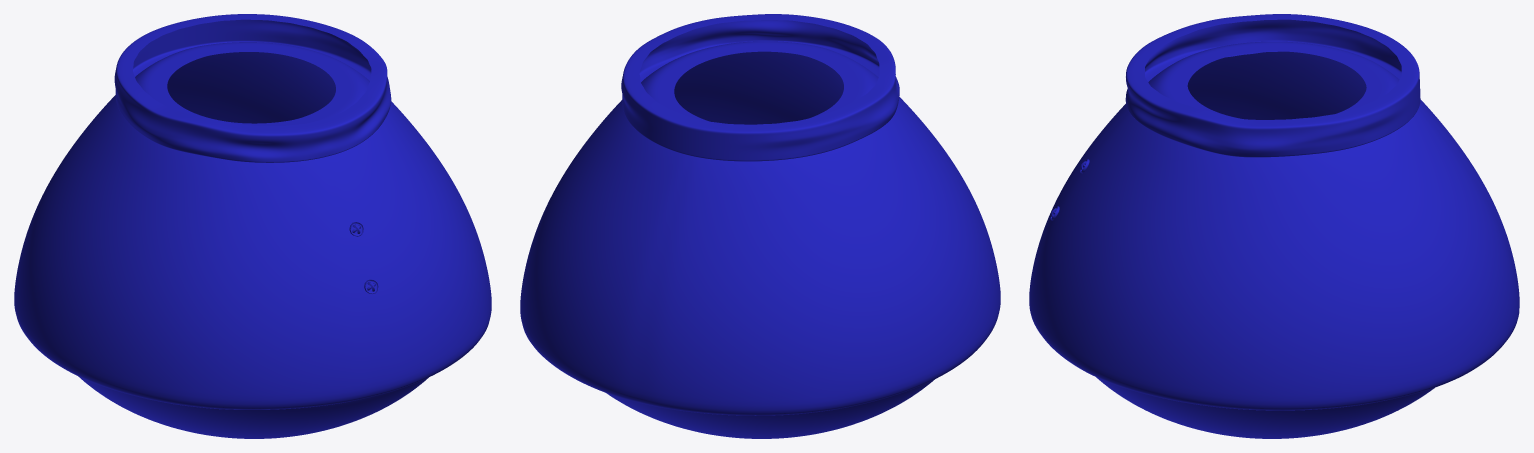
The model's file is SM_ FE_Char_Dog_Body.fbx.
The picture shows the model from 3 angles, left to right: view 1: azimuth 30°, elevation 25°; view 2: azimuth 150°, elevation 25°; view 3: azimuth 270°, elevation 25°; orthographic projection.
Visible parts, largest first — view 1: body_Untitled.001; view 2: body_Untitled.001; view 3: body_Untitled.001.
Boxes of the visible parts, x1,y1,x2,y2 form: body_Untitled.001: (14, 14, 491, 438); body_Untitled.001: (520, 14, 1000, 438); body_Untitled.001: (1029, 14, 1519, 438).
Bounding box in the file's own units: 82.49 × 64.87 × 84.82.
